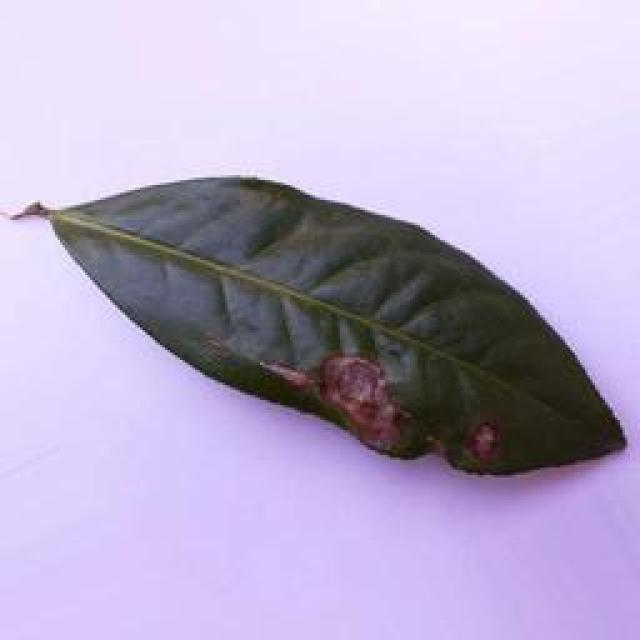Gray Blight: (9, 172, 634, 472)
